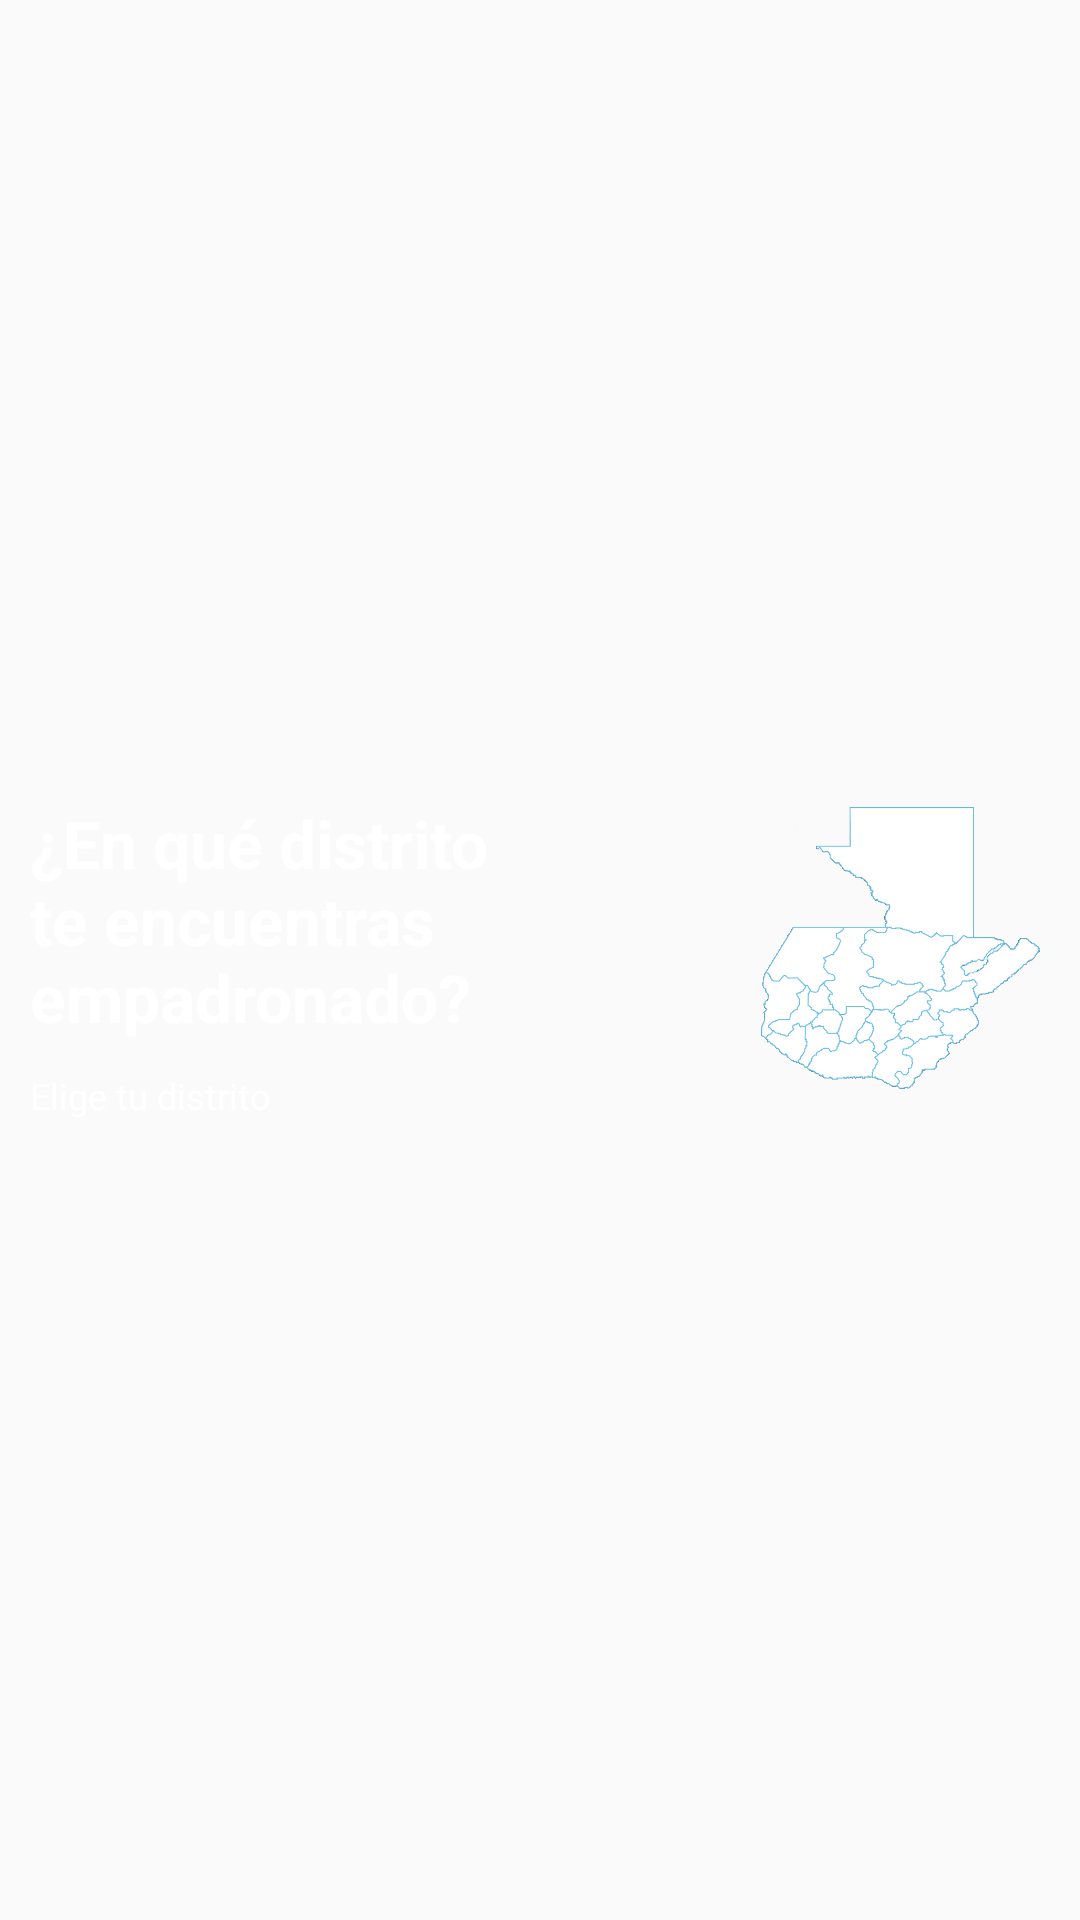

Where icons sit on this 1080px×1920px app screen, as (x1, y1, x2, y2):
mapa: (761, 807, 1040, 1089)
